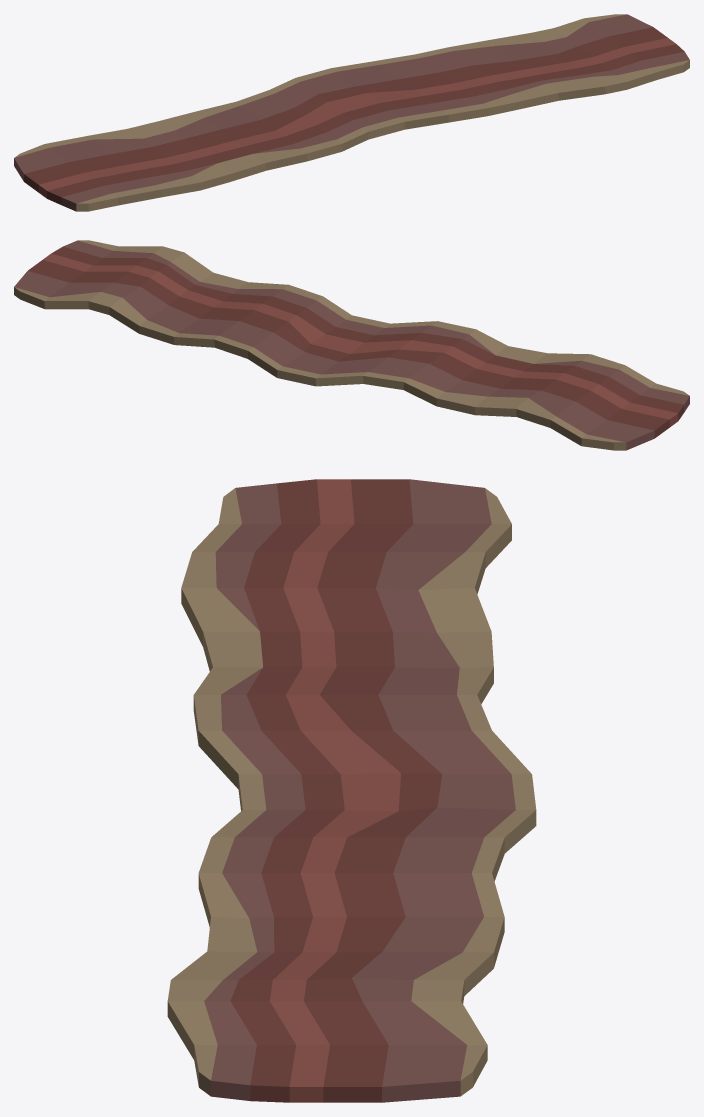
Rendered from quaternius-ultimate-food-bacon-cooked.glb.
3 views of the same model, one above another, from view 1: azimuth 30°, elevation 25°; view 2: azimuth 150°, elevation 25°; view 3: azimuth 270°, elevation 25° (orthographic). The views are drawn at different scales.
Parts seen in each view (by area): view 1: Bacon_Cooked; view 2: Bacon_Cooked; view 3: Bacon_Cooked.
Part boxes in pixels (bbox=[...]): Bacon_Cooked: bbox=[14, 14, 689, 211]; Bacon_Cooked: bbox=[14, 240, 689, 450]; Bacon_Cooked: bbox=[167, 479, 536, 1102].
Bounding box in the file's own units: 1.16 × 0.0213 × 0.2968.
